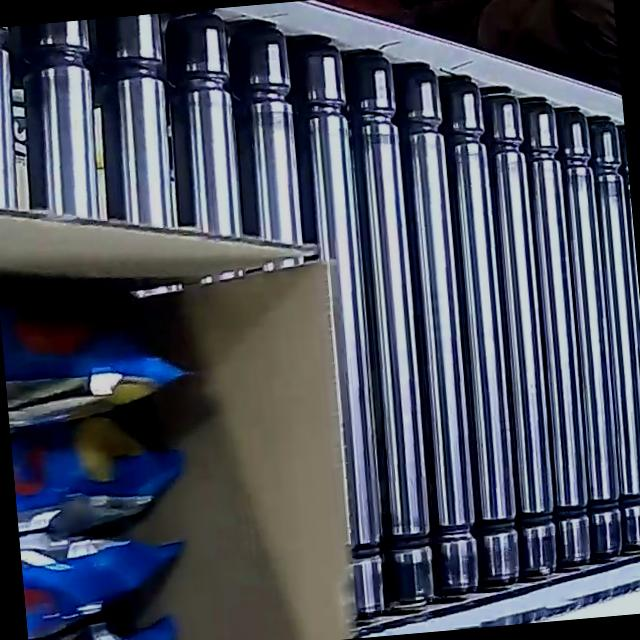paprika: (0, 265, 220, 640)
